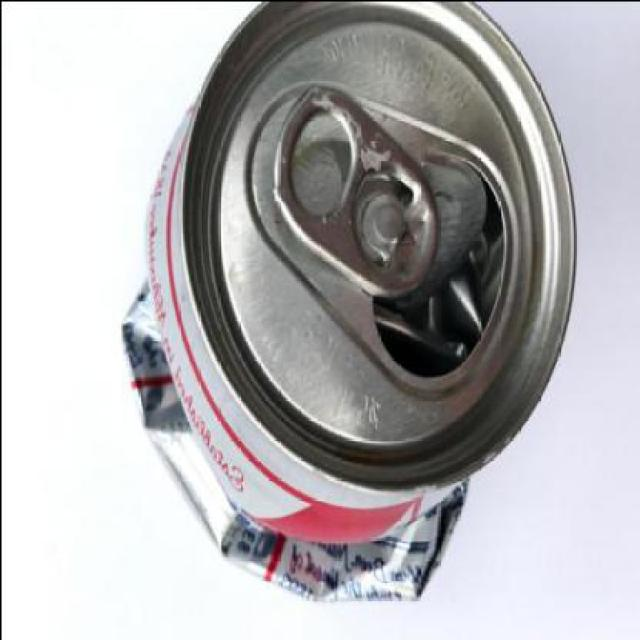METAL: (118, 2, 574, 603)
